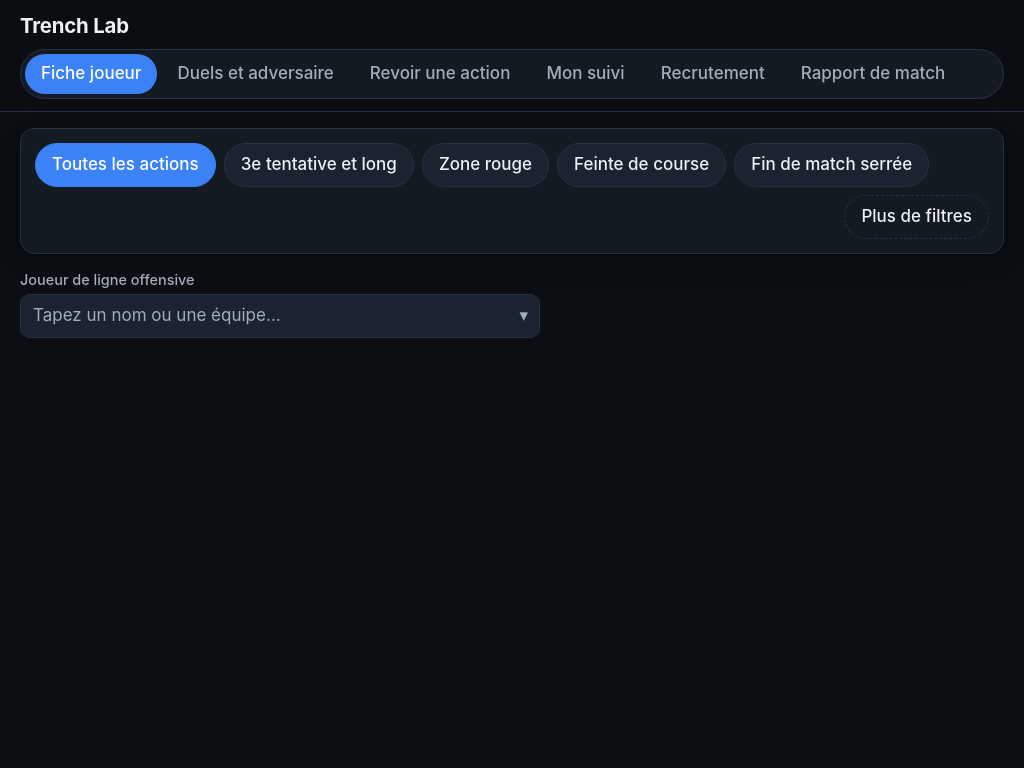
Test: App › affiche les vues en français courant et les situations prêtes
Expected: the button "3e tentative et long" is shown, [224,143,414,187]
Click the button "Plus de filtres": (917, 217) [844,195,989,239]
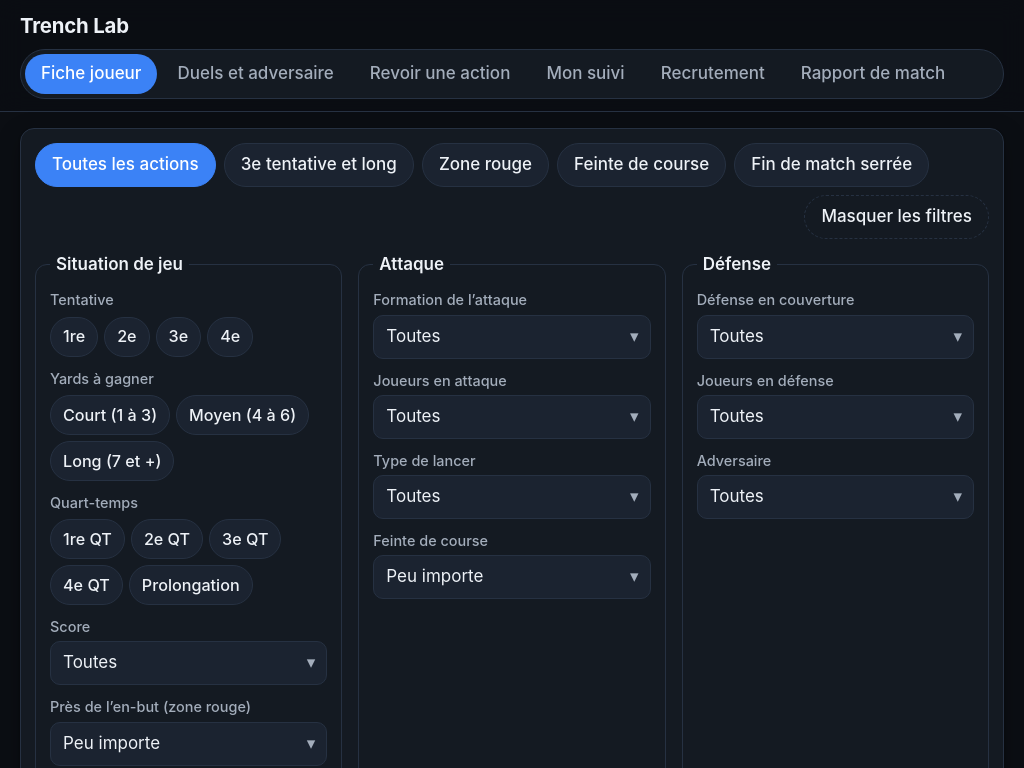
Expected: the button "Long (7 et +)" is shown, [50,441,174,481]
